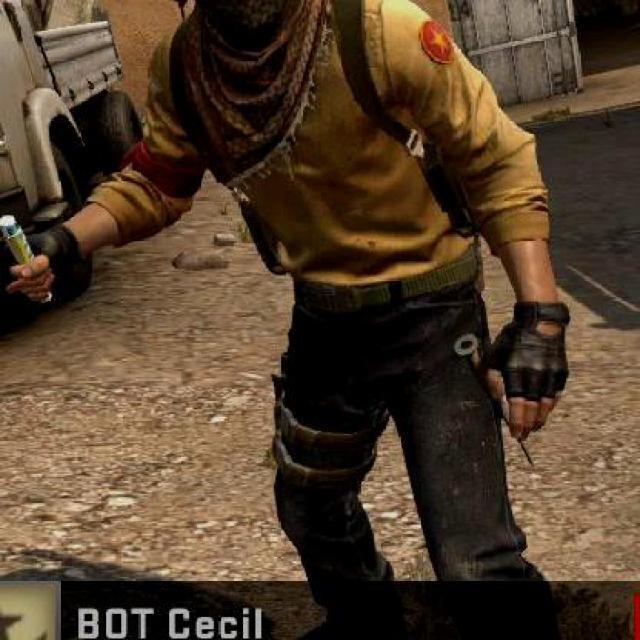T: (63, 0, 601, 638)
T_HEAD: (163, 0, 309, 51)
